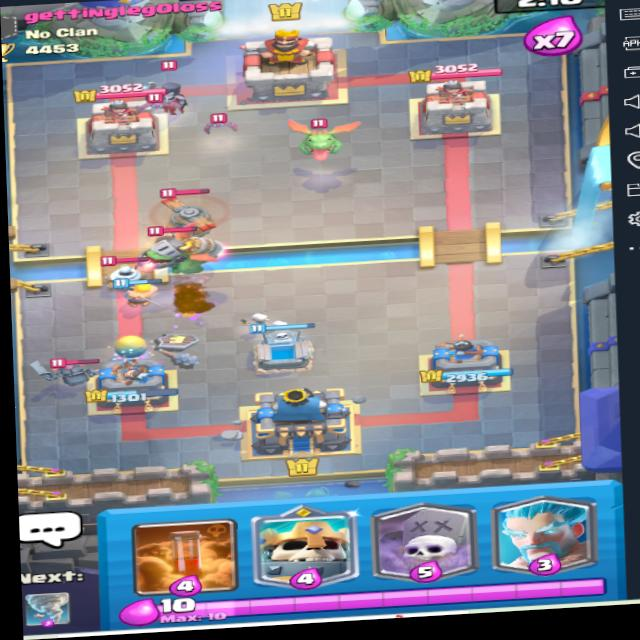baby-dragon: (276, 114, 359, 165)
bats: (201, 111, 246, 139), (147, 89, 173, 115)
flying-machine: (146, 190, 224, 255)
inferno-dragon: (138, 221, 237, 281)
mini-pekka: (48, 357, 109, 394)
night-witch: (144, 58, 196, 118)
zappie: (100, 255, 154, 289)
